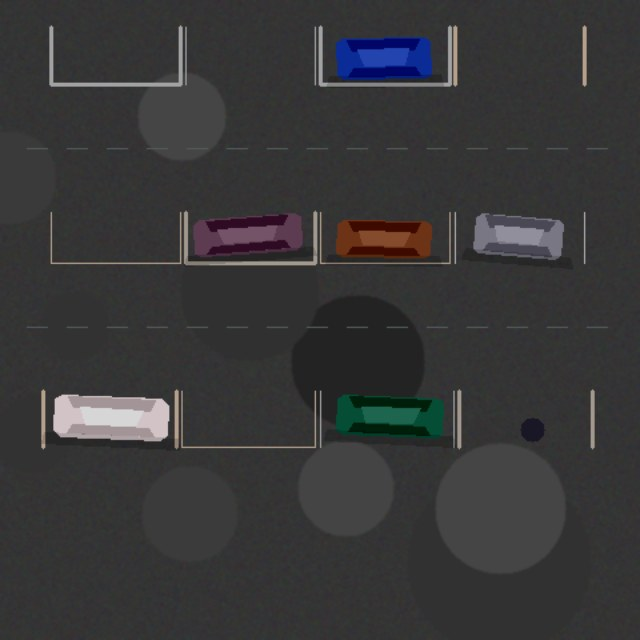space-empty: (181, 391, 315, 447), (459, 391, 592, 447), (185, 27, 315, 84), (51, 27, 180, 84), (455, 27, 584, 84), (51, 212, 180, 263)
space-occupied: (43, 391, 176, 447), (320, 391, 453, 447), (320, 27, 449, 84), (185, 212, 315, 263), (320, 212, 449, 263), (455, 212, 584, 263)
